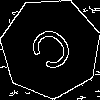C: (26, 23, 84, 82)
